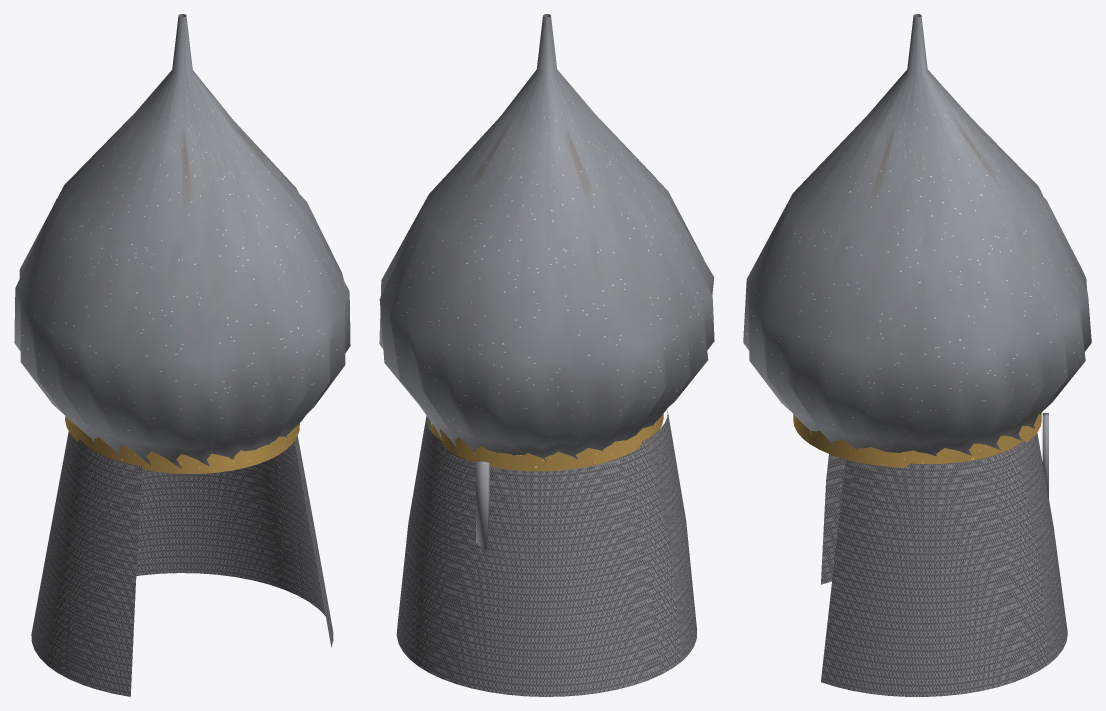
The model's file is sarik_migfer.glb.
3 views of the same model, side by side, from view 1: azimuth 30°, elevation 25°; view 2: azimuth 150°, elevation 25°; view 3: azimuth 270°, elevation 25° (orthographic).
Parts seen in each view (by area): view 1: sarik_migfer; view 2: sarik_migfer; view 3: sarik_migfer.
Part boxes in pixels (x1,y1,x2,y2): sarik_migfer: (14,14,350,696); sarik_migfer: (379,14,714,696); sarik_migfer: (743,14,1091,696).
Bounding box in the file's own units: 0.3312 × 0.68 × 0.3477.
Materials: 3 (3 with a texture image).
